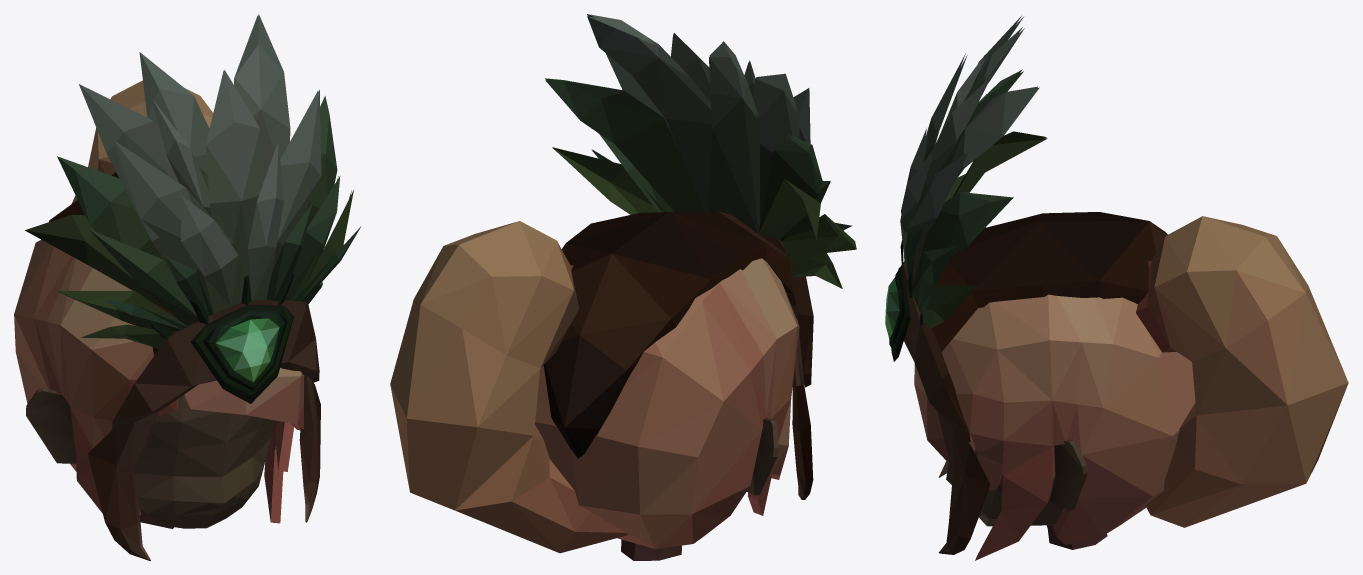
The model's file is helm_darkskin_ponytail_blonde_headress.fbx.
3 views of the same model, side by side, from view 1: azimuth 30°, elevation 25°; view 2: azimuth 150°, elevation 25°; view 3: azimuth 270°, elevation 25° (orthographic). The views are drawn at different scales.
Visible parts, largest first — view 1: helm_darkskin_ponytail_blonde_headress; view 2: helm_darkskin_ponytail_blonde_headress; view 3: helm_darkskin_ponytail_blonde_headress.
Part boxes in pixels (x1,y1,x2,y2): helm_darkskin_ponytail_blonde_headress: (14, 14, 360, 560); helm_darkskin_ponytail_blonde_headress: (390, 14, 856, 560); helm_darkskin_ponytail_blonde_headress: (885, 16, 1348, 560).
Bounding box in the file's own units: 1.31 × 2.07 × 1.75.
